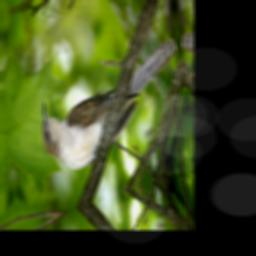Cuckoo: (35, 37, 186, 184)
